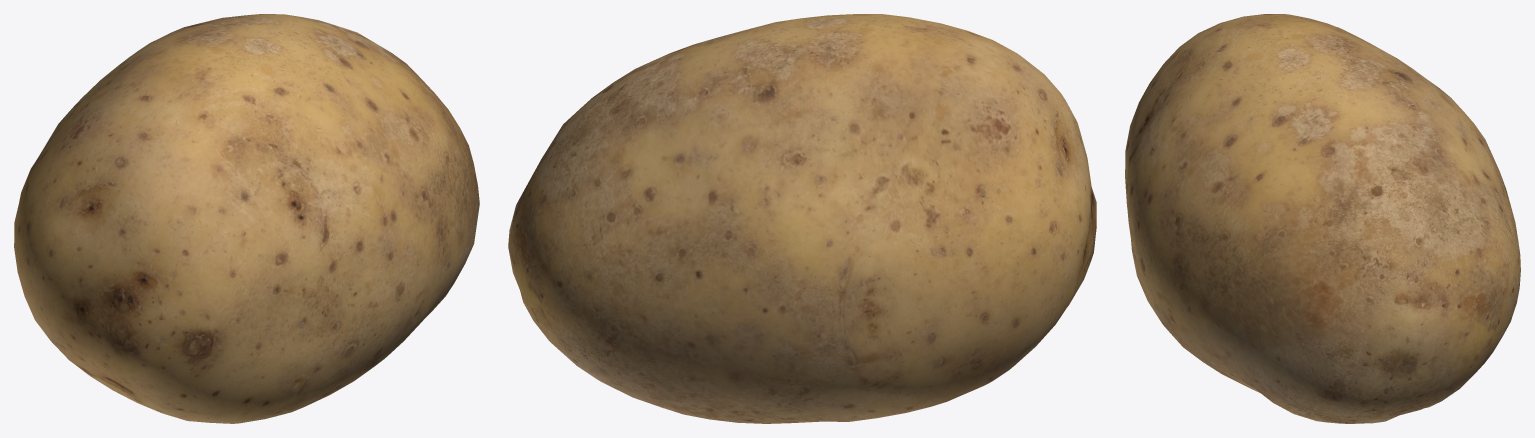
Rendered from slide-3-5.glb.
The picture shows the model from 3 angles, left to right: view 1: azimuth 30°, elevation 25°; view 2: azimuth 150°, elevation 25°; view 3: azimuth 270°, elevation 25°; orthographic projection. The views are drawn at different scales.
Visible parts, largest first — view 1: low poly; view 2: low poly; view 3: low poly.
Boxes of the visible parts, bbox=[...] form: low poly: bbox=[14, 14, 479, 423]; low poly: bbox=[508, 14, 1096, 423]; low poly: bbox=[1125, 14, 1520, 423].
Size of the model in its own units: 0.1444 by 0.1062 by 0.1176.
1 material, 1 textured.
